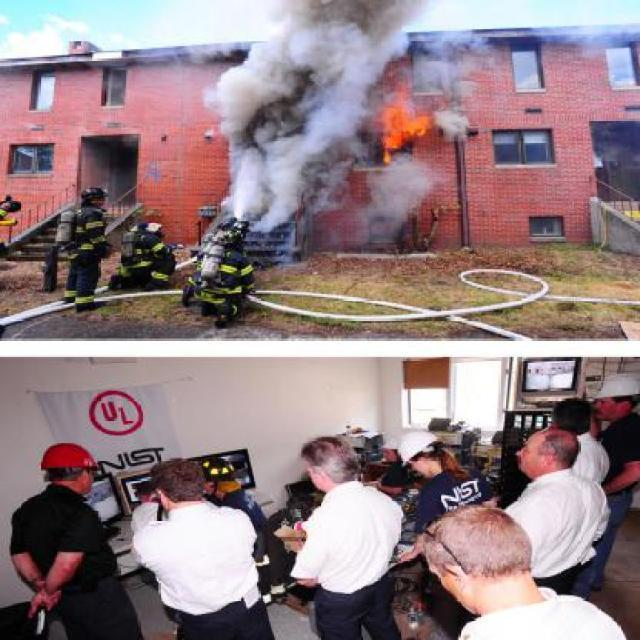Fire: (350, 55, 438, 170)
Smoke: (77, 0, 627, 290)
